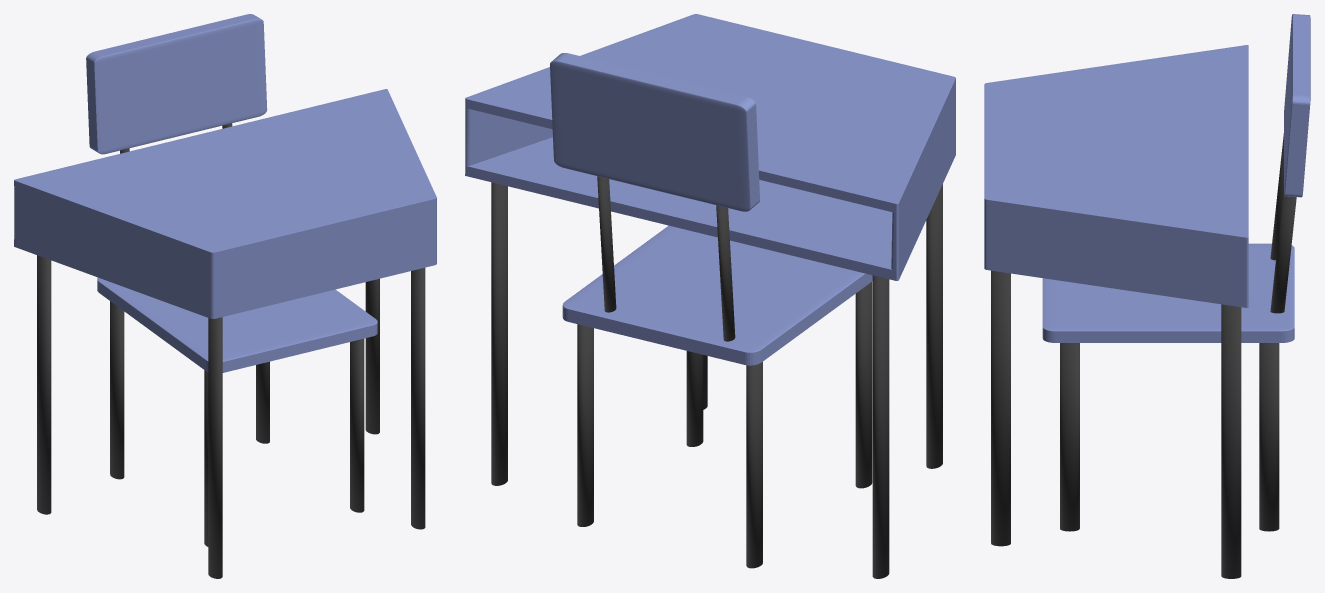
The model's file is Table&Chair.fbx.
The picture shows the model from 3 angles, left to right: view 1: azimuth 30°, elevation 25°; view 2: azimuth 150°, elevation 25°; view 3: azimuth 270°, elevation 25°; orthographic projection. The views are drawn at different scales.
Visible parts, largest first — view 1: Table, Cube.001, Legs, Cube, Legs.001; view 2: Table, Cube.001, Cube, Legs, Legs.001, Legs.002; view 3: Table, Cube, Legs, Legs.001, Cube.001, Legs.002.
Boxes of the visible parts, x1,y1,x2,y2 form: Table: (14,89,436,318); Cube.001: (86,14,267,154); Legs: (37,255,425,578); Cube: (97,277,377,372); Legs.001: (110,301,364,546); Table: (465,14,955,280); Cube.001: (550,53,759,211); Cube: (562,225,872,365); Legs: (491,182,942,578); Legs.001: (577,282,872,568); Legs.002: (597,176,735,341); Table: (984,45,1248,307); Cube: (1042,243,1294,342); Legs: (991,270,1241,578); Legs.001: (1060,343,1279,531); Cube.001: (1284,14,1310,197); Legs.002: (1270,133,1296,313).
Size of the model in its own units: 141 by 149 by 101.
